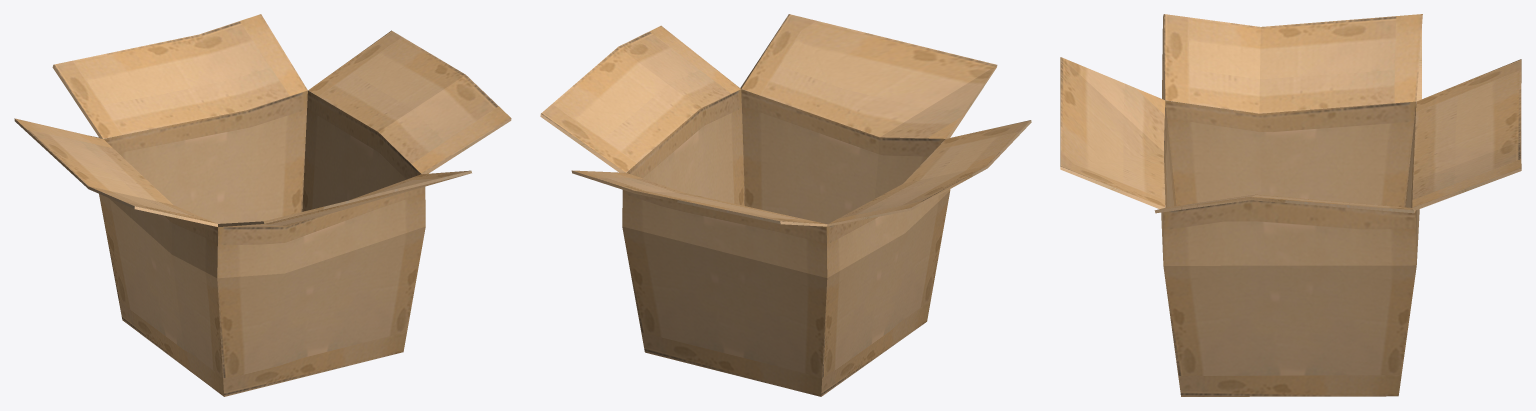
The model's file is Carton.fbx.
3 views of the same model, side by side, from view 1: azimuth 30°, elevation 25°; view 2: azimuth 150°, elevation 25°; view 3: azimuth 270°, elevation 25° (orthographic). The views are drawn at different scales.
Parts seen in each view (by area): view 1: Carton; view 2: Carton; view 3: Carton.
Part boxes in pixels (x1=…): Carton: x1=14, y1=14, x2=511, y2=396; Carton: x1=540, y1=14, x2=1031, y2=396; Carton: x1=1060, y1=14, x2=1521, y2=396.
Size of the model in its own units: 125 by 74.54 by 126.
